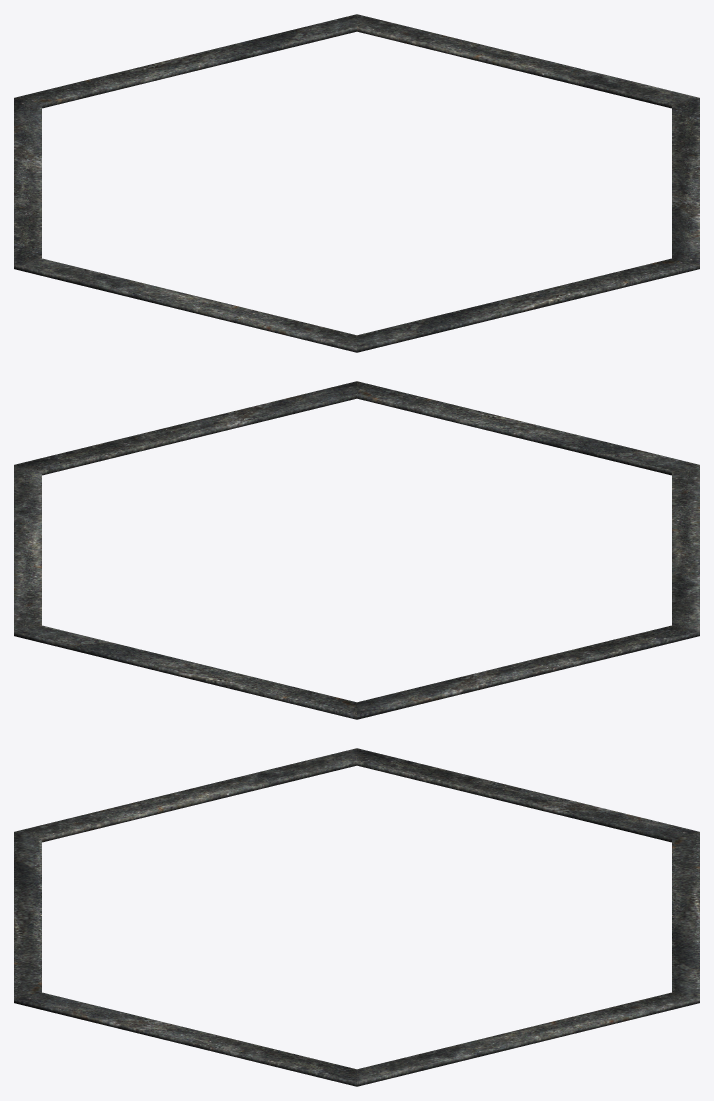
File: castlebase_floor_hex_ring.dae
3 views of the same model, one above another, from view 1: azimuth 30°, elevation 25°; view 2: azimuth 150°, elevation 25°; view 3: azimuth 270°, elevation 25° (orthographic).
Parts seen in each view (by area): view 1: polySurface2; view 2: polySurface2; view 3: polySurface2.
Part boxes in pixels (x1,y1,x2,y2): polySurface2: [14, 14, 699, 352]; polySurface2: [14, 381, 699, 719]; polySurface2: [14, 748, 699, 1086].
Bounding box in the file's own units: 11.2 × 0.0603 × 9.7.
